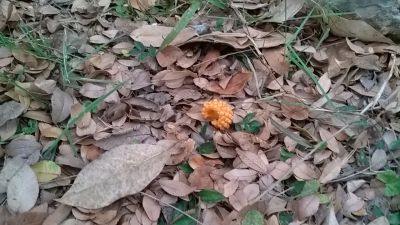eggs: (201, 98, 234, 130)
